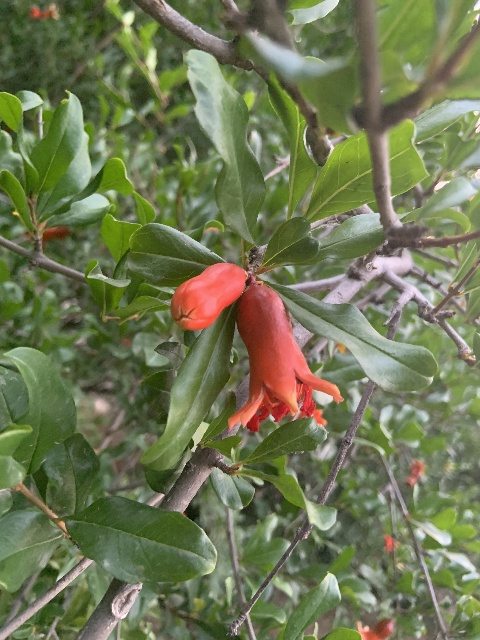bud: (170, 262, 246, 331), (42, 225, 69, 244)
early-fruit: (356, 618, 393, 640)
flower: (227, 282, 343, 433)
